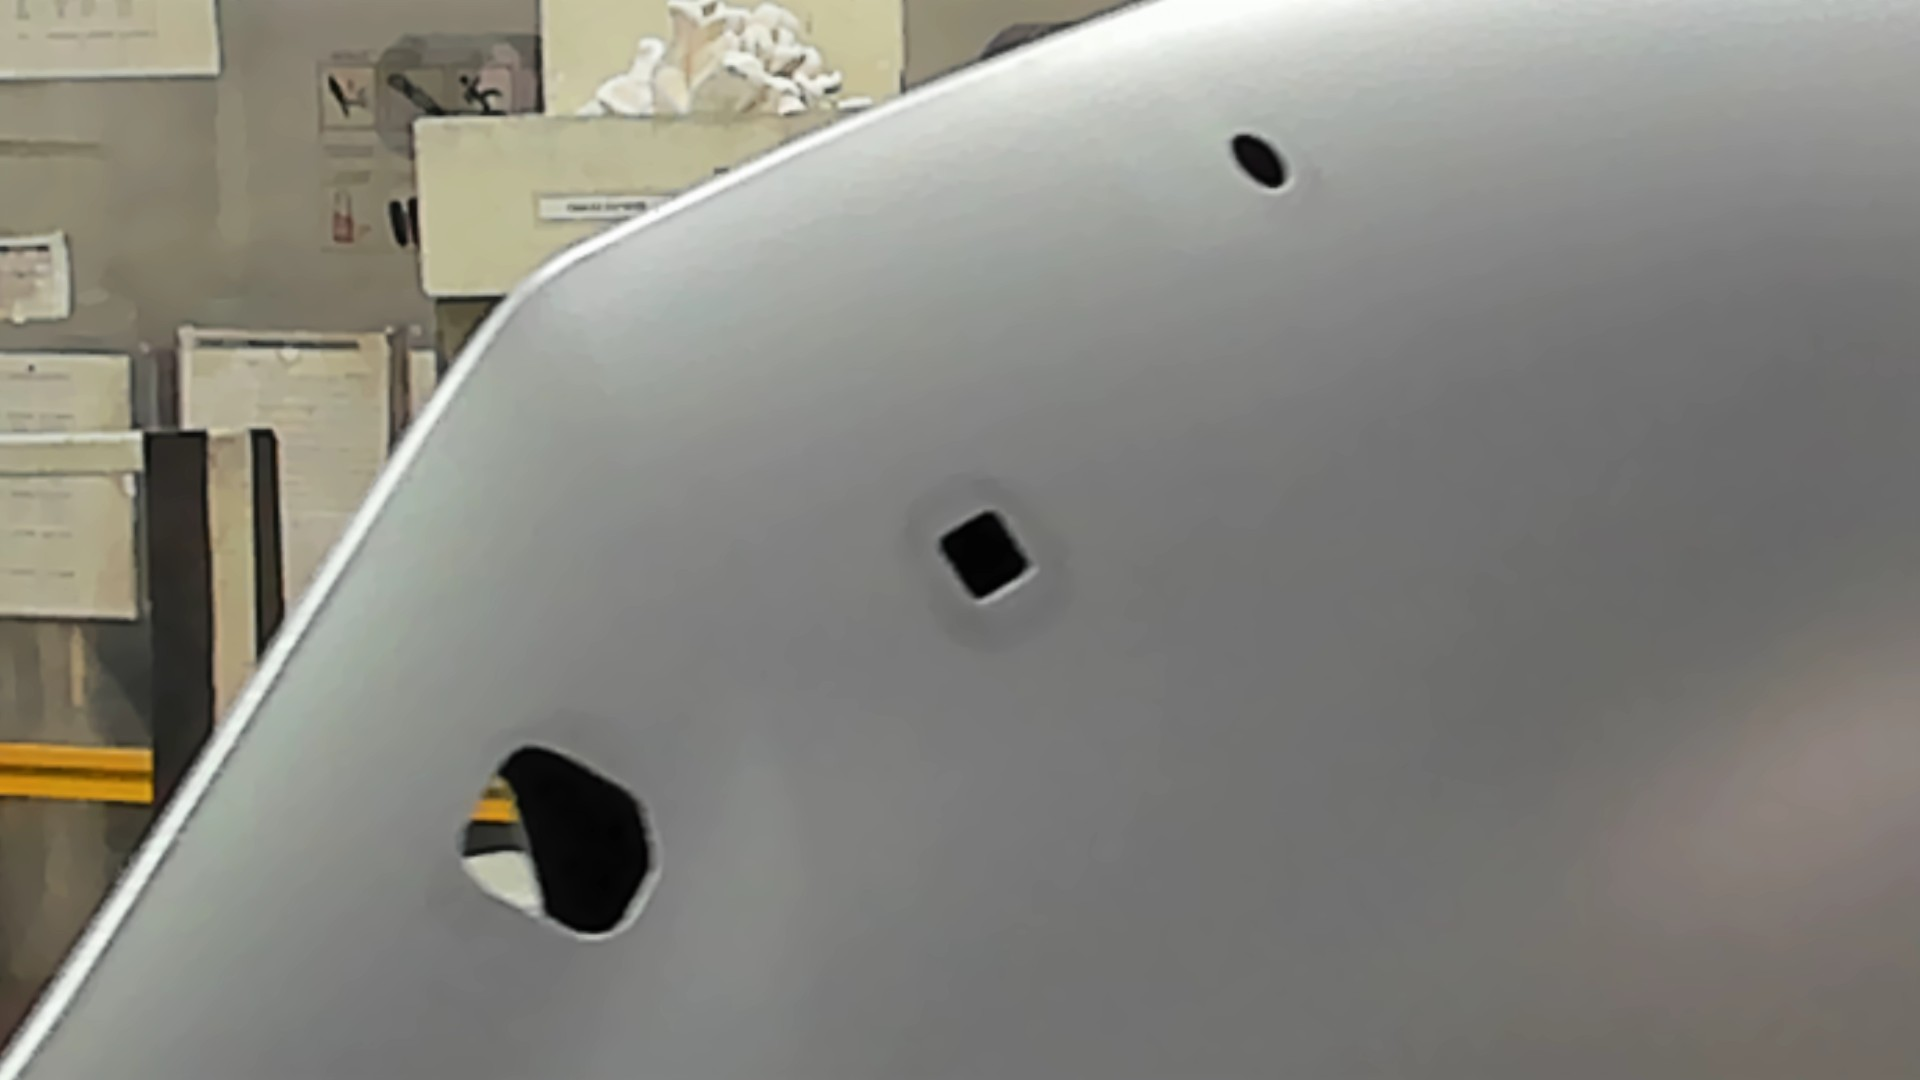capo: (1048, 196, 1920, 1080)
chico: (1226, 131, 1294, 195)
grande: (444, 738, 669, 945)
mediano: (928, 501, 1044, 613)
